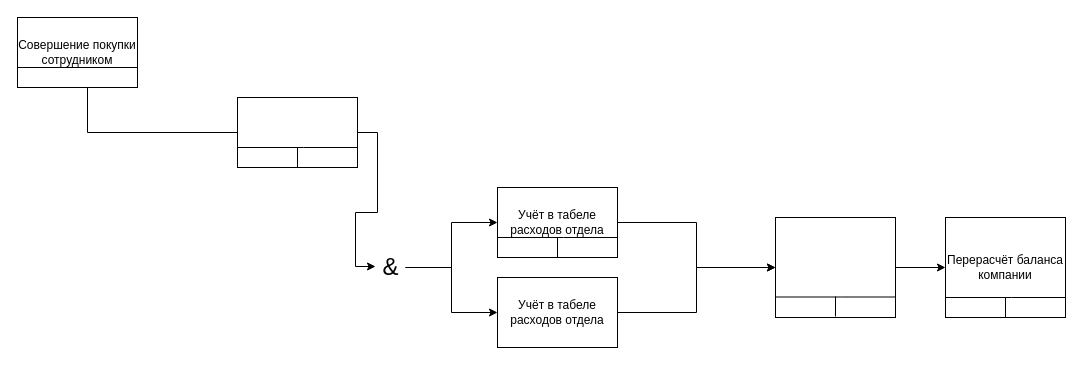
This 1084x365 diagram has some shape labels left out. The centre of each missing label's shape, as x and y in pixels:
Перерасчёт баланса отдела: [835,267]
Предоставление чека: [297,132]
